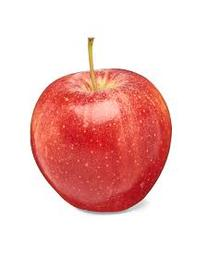apple: (29, 36, 172, 212)
